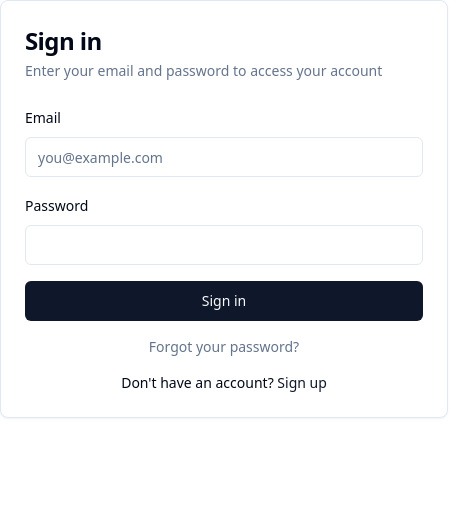
Test: LoginForm › shows error message on failed login
Step 1. Type "test@example.com" into the field labelled "Email" → (224, 157), box [25,137,423,177]
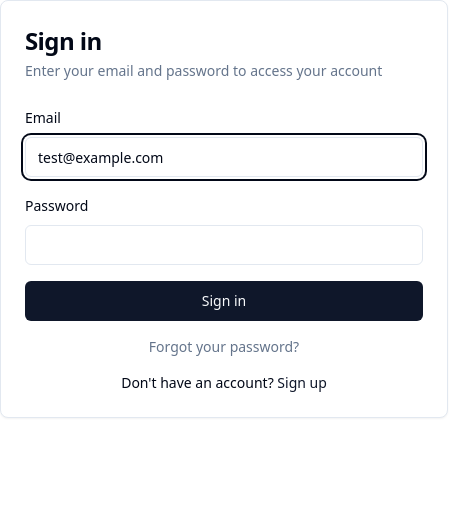
Step 2. Type "wrongpassword" into the password field labelled "Password" → (224, 245), box [25,225,423,265]
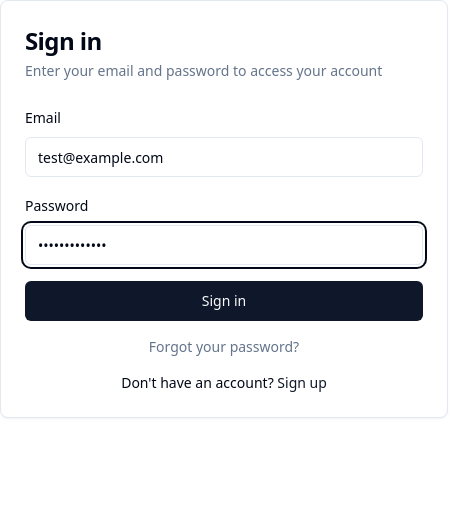
Step 3. Click the button "Sign in" → (224, 301), box [25,281,423,321]
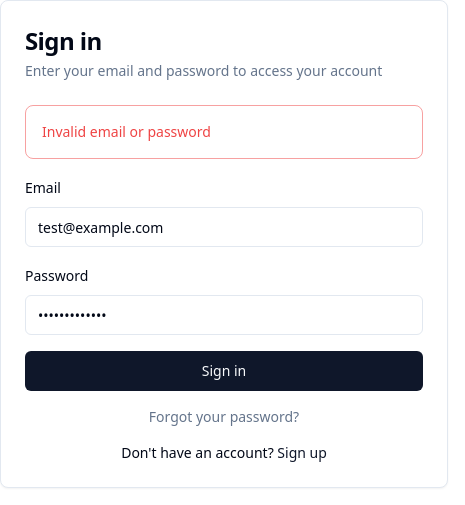
Expected: the text "Invalid email or password" is shown, [42,122,211,141]
